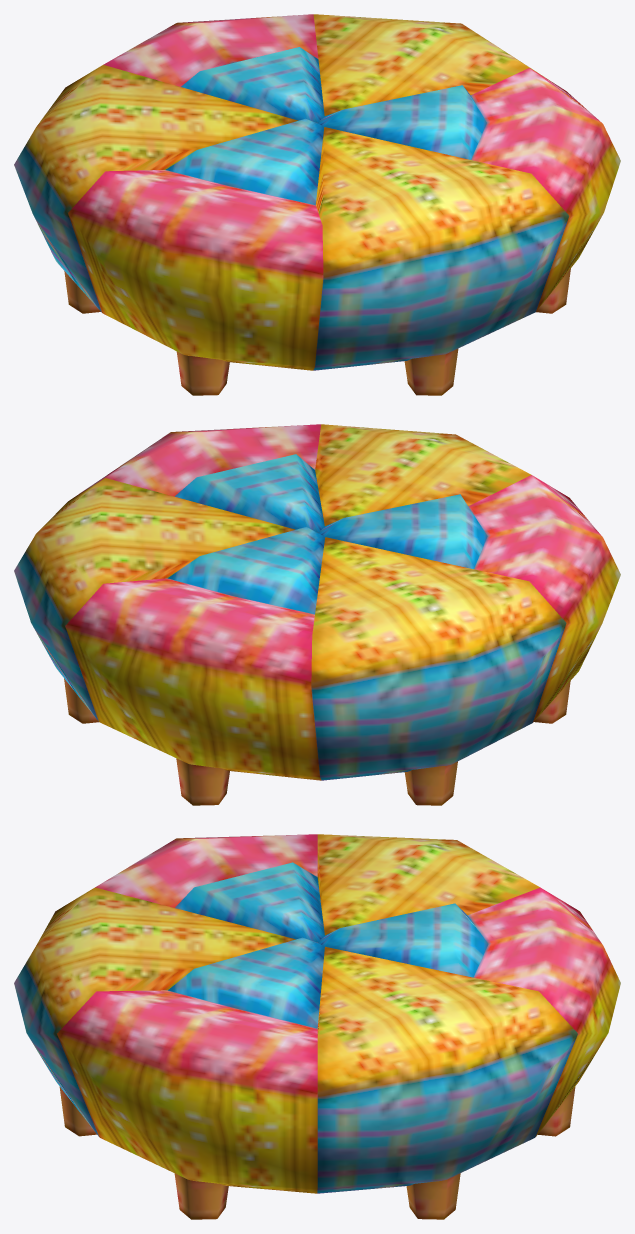
File: rmk_ptw_tableL.dae
The picture shows the model from 3 angles, top to bottom: view 1: azimuth 30°, elevation 25°; view 2: azimuth 150°, elevation 25°; view 3: azimuth 270°, elevation 25°; orthographic projection.
Visible parts, largest first — view 1: rmk_ptw_tableL; view 2: rmk_ptw_tableL; view 3: rmk_ptw_tableL.
Boxes of the visible parts, box(x1,y1,x2,y2) form: rmk_ptw_tableL: box(14, 14, 620, 395); rmk_ptw_tableL: box(14, 424, 620, 805); rmk_ptw_tableL: box(14, 834, 620, 1219).
Size of the model in its own units: 61.12 by 22.97 by 63.45.
Materials: 1 (1 with a texture image).
